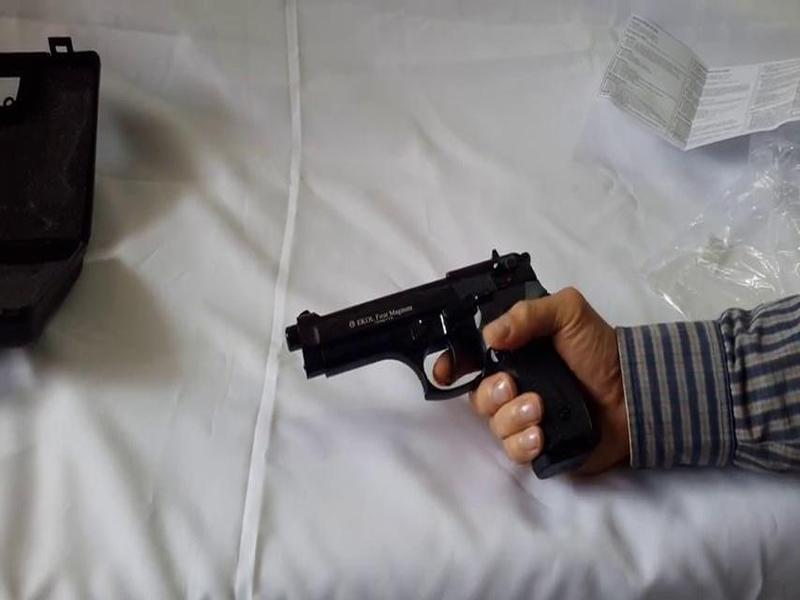Pistola: (307, 236, 591, 463)
